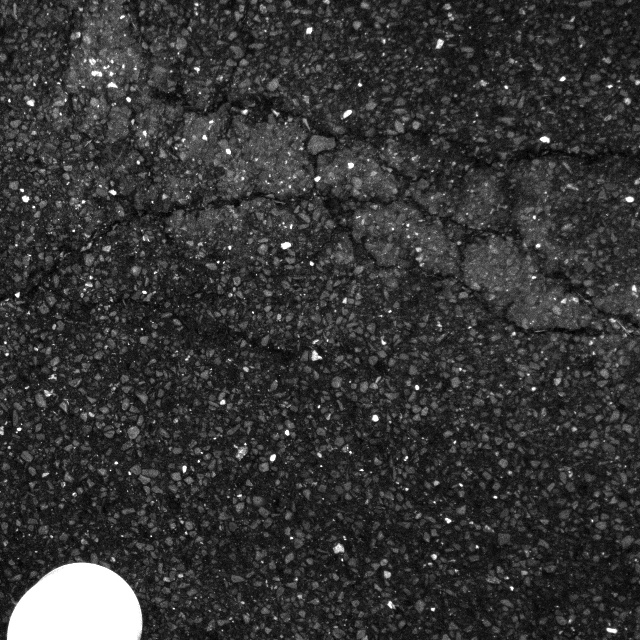can: (0, 557, 151, 640)
